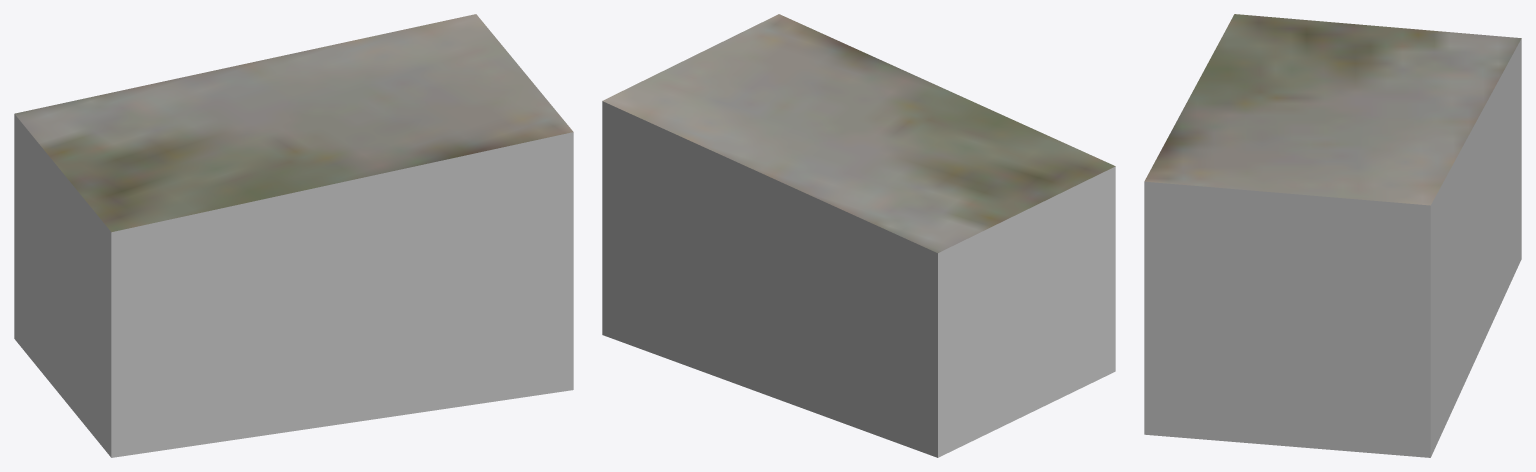
Rendered from DEBW_0010007TxcJ.gltf.
3 renders of one model, left to right at view 1: azimuth 30°, elevation 25°; view 2: azimuth 150°, elevation 25°; view 3: azimuth 270°, elevation 25°, orthographic. The views are drawn at different scales.
Visible parts, largest first — view 1: Z_UP; view 2: Z_UP; view 3: Z_UP.
Boxes of the visible parts, x1,y1,x2,y2 form: Z_UP: [14, 14, 573, 457]; Z_UP: [602, 14, 1115, 457]; Z_UP: [1144, 14, 1521, 457].
Bounding box in the file's own units: 6.6 × 3.5 × 4.73.
2 materials, 1 textured.
